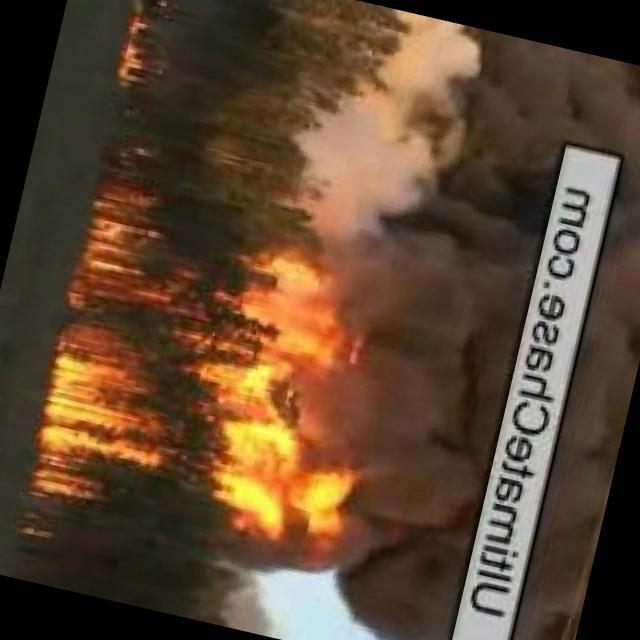Fire: (25, 174, 407, 566), (110, 1, 162, 108)
